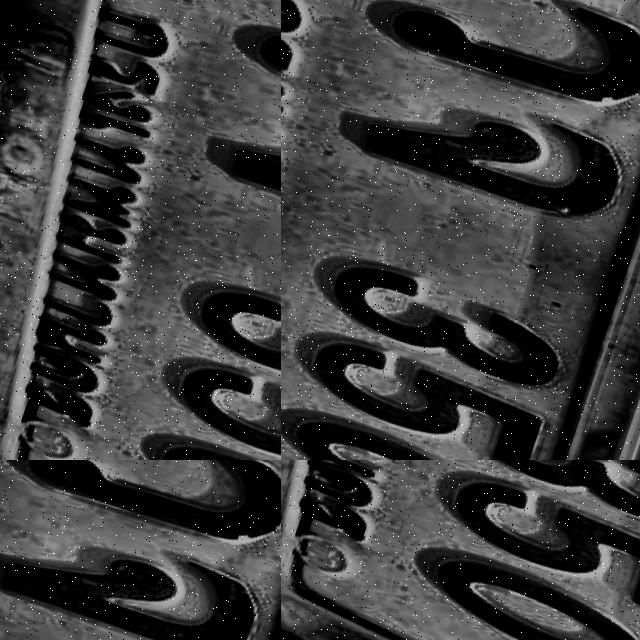license-plate: (281, 460, 640, 640), (505, 107, 640, 234)
